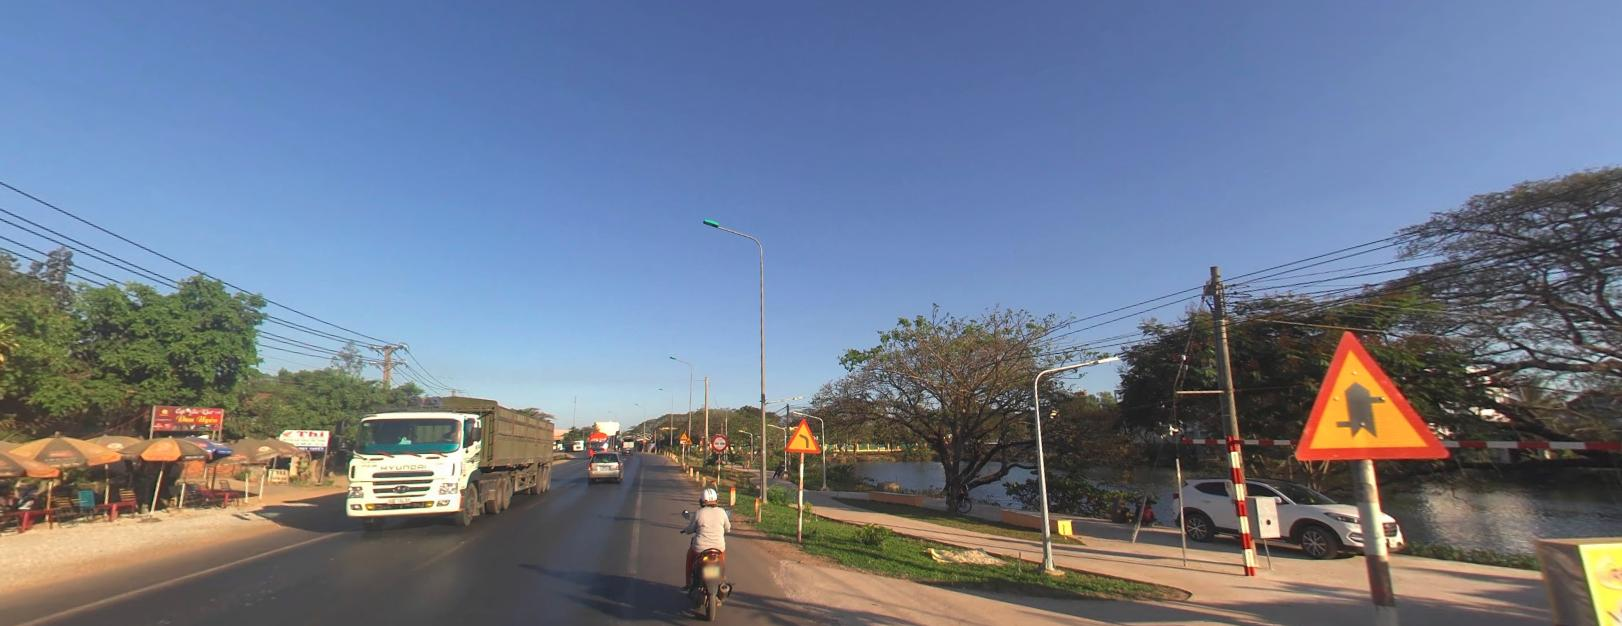Cam con lai: (711, 433, 727, 450)
Nguy hiem: (1289, 318, 1456, 470), (783, 416, 821, 454), (684, 435, 693, 443), (679, 430, 687, 437), (642, 437, 647, 441)
